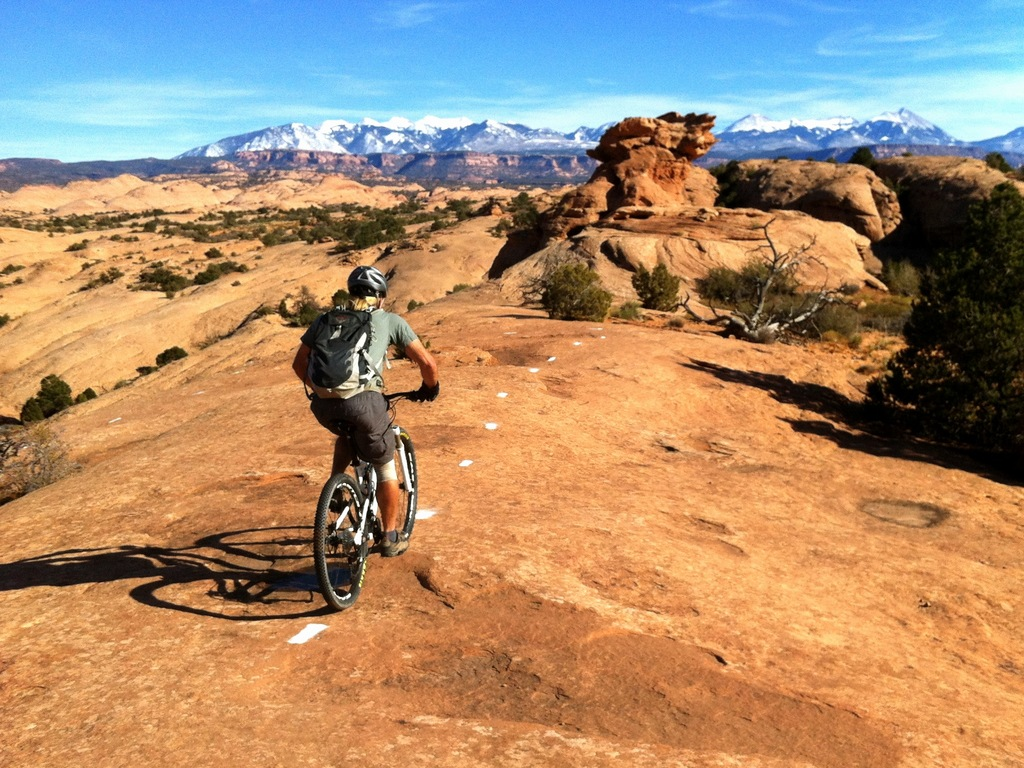Bike: (306, 383, 429, 612)
